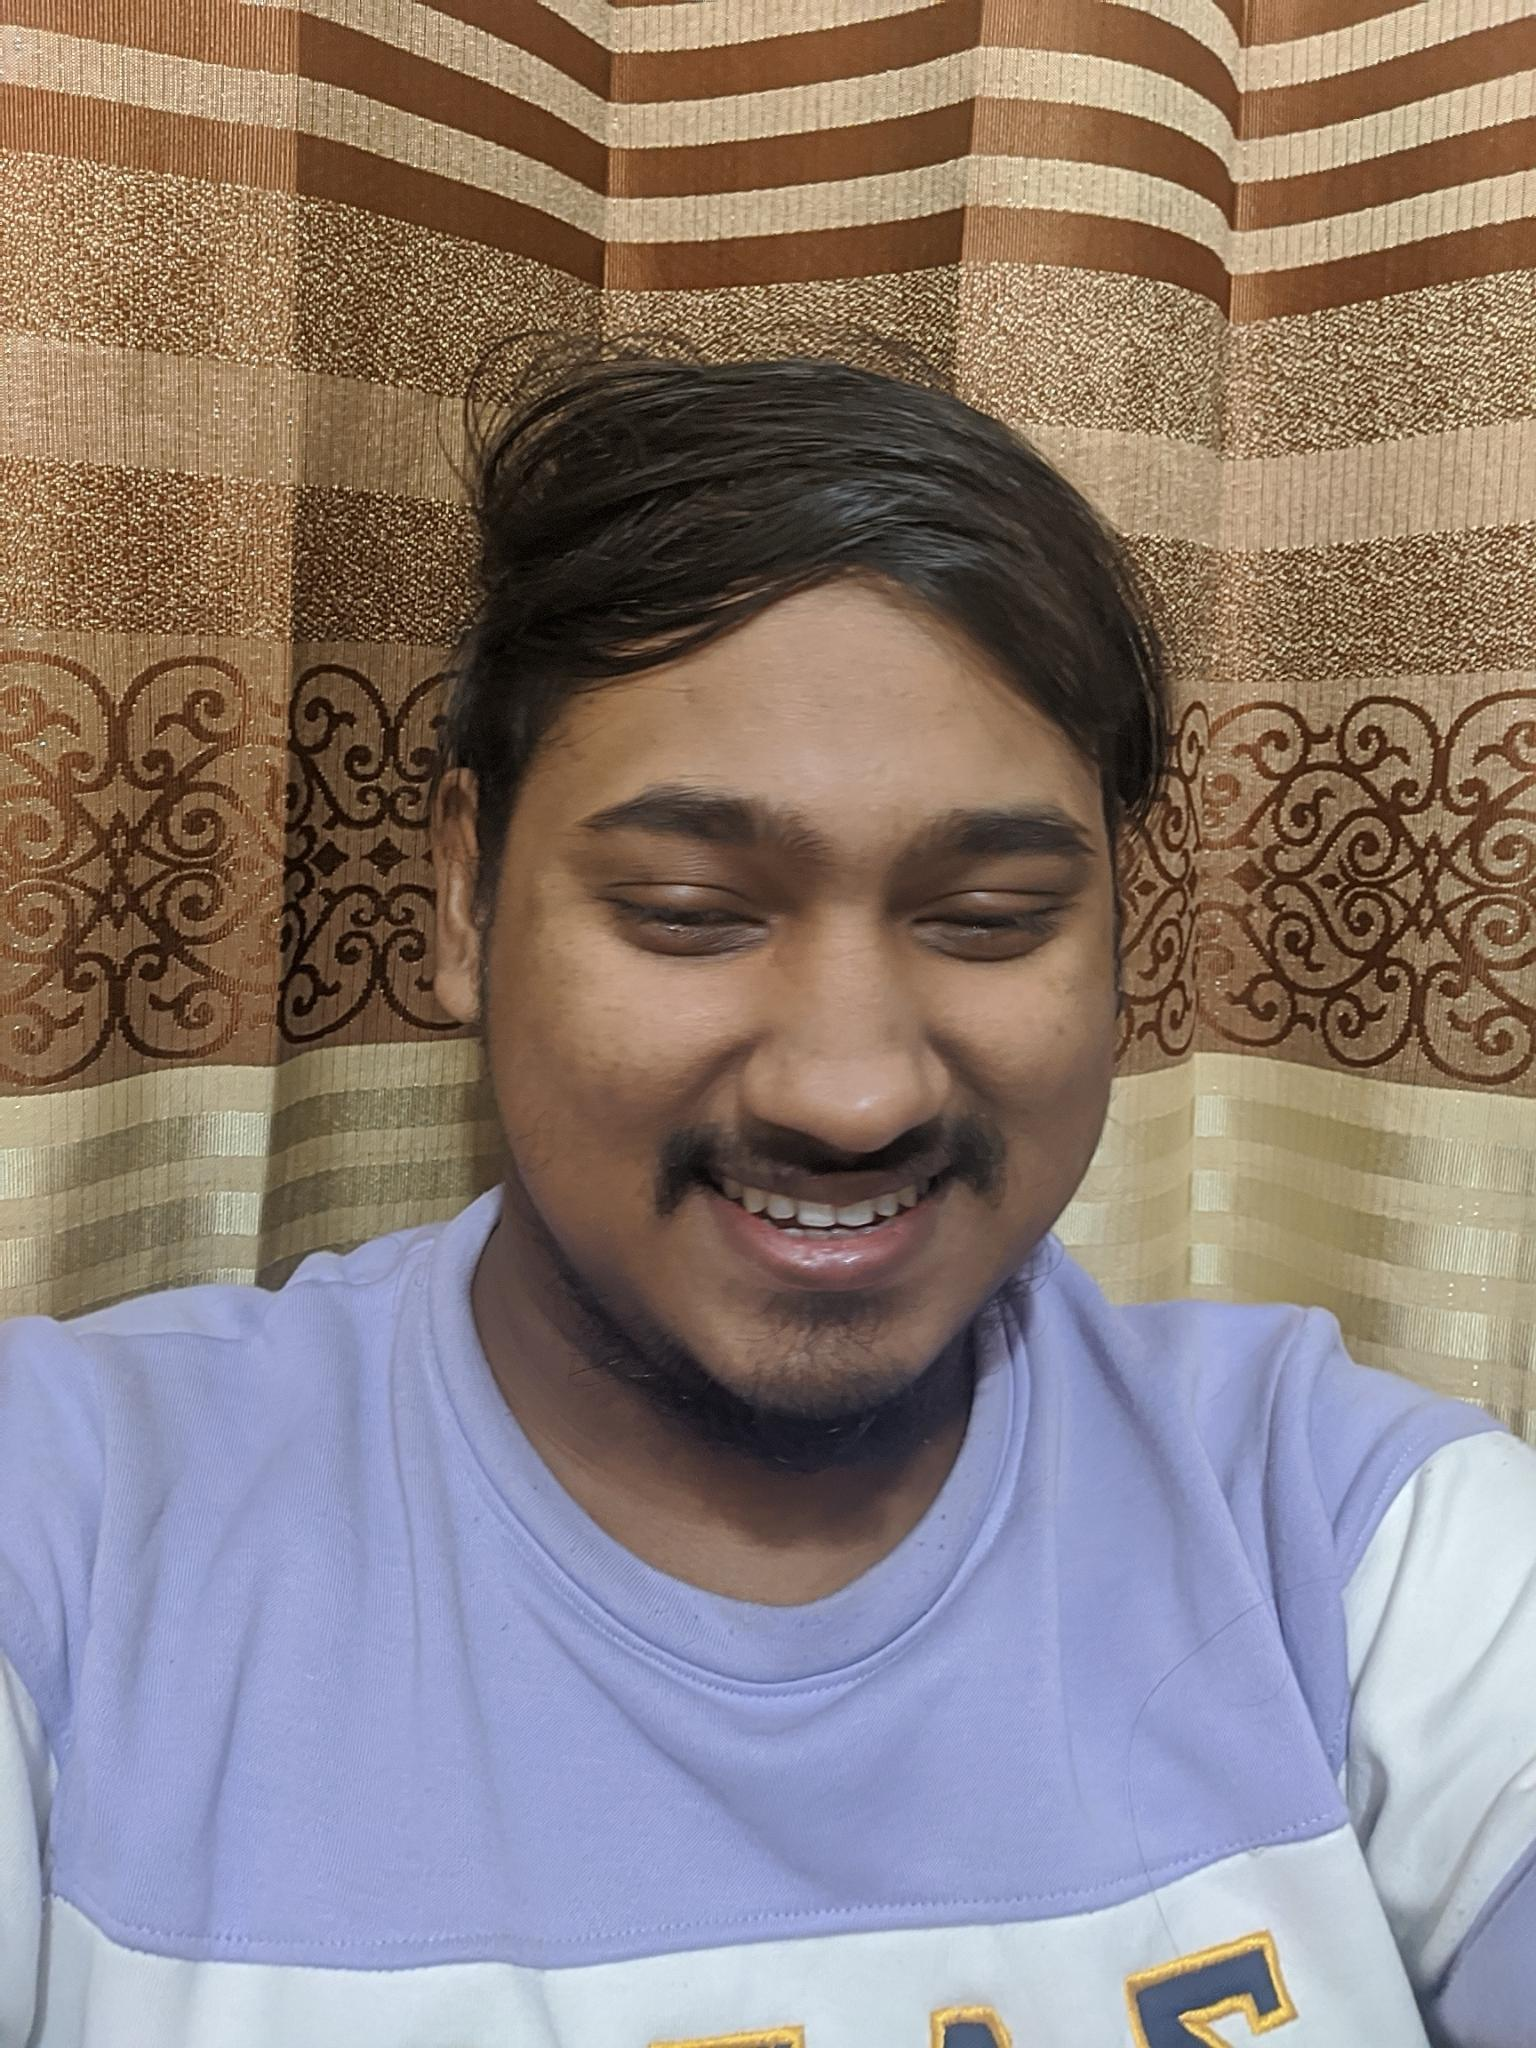Happy: (518, 708, 1105, 1376)
